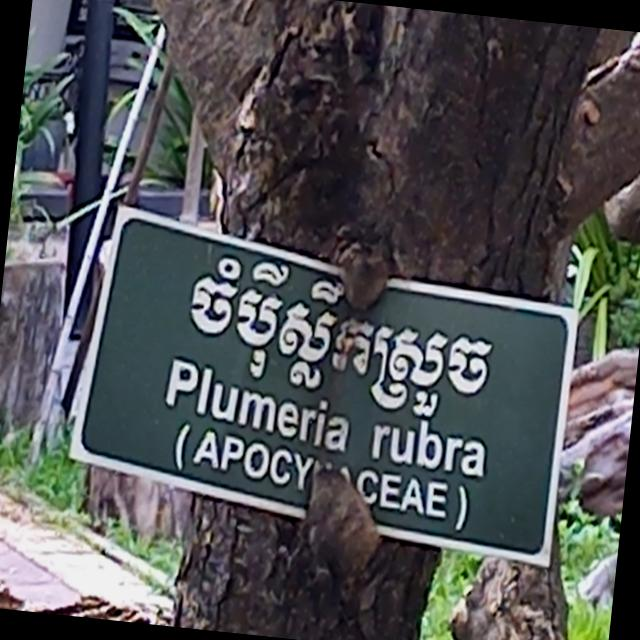Yolov11_80vkh: (174, 237, 502, 434)
